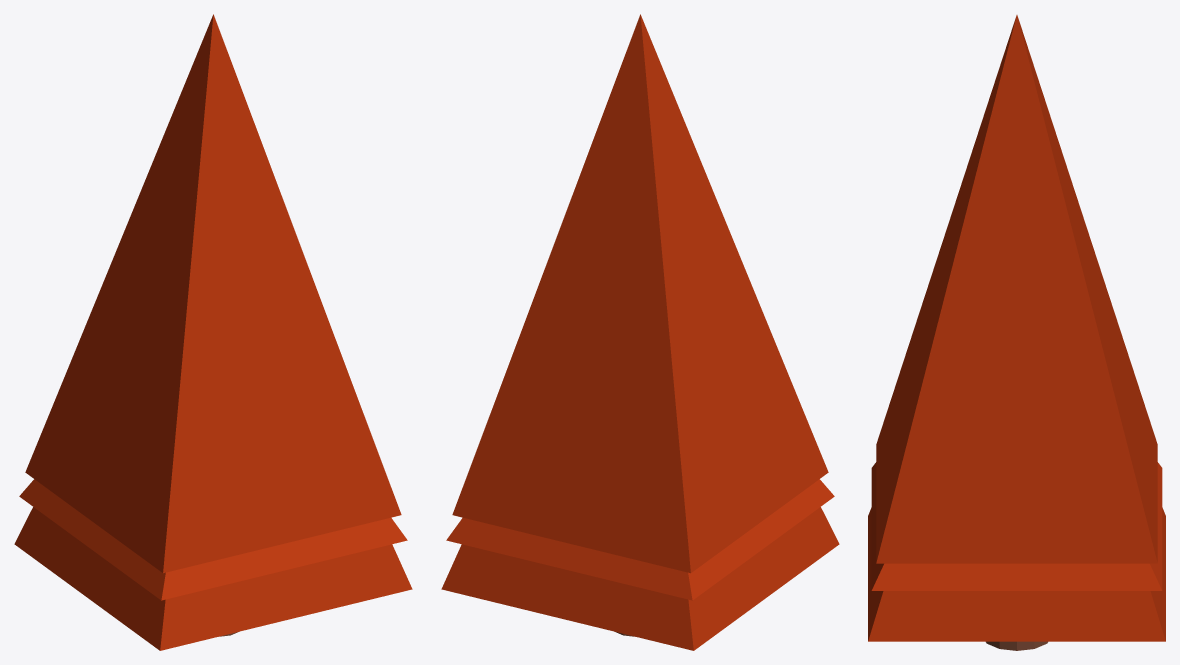
The model's file is Tree_34_summer_red_mat.fbx.
The picture shows the model from 3 angles, left to right: view 1: azimuth 30°, elevation 25°; view 2: azimuth 150°, elevation 25°; view 3: azimuth 270°, elevation 25°; orthographic projection. The views are drawn at different scales.
Parts seen in each view (by area): view 1: Tree_34_summer_red_mat; view 2: Tree_34_summer_red_mat; view 3: Tree_34_summer_red_mat.
Part boxes in pixels (x1,y1,x2,y2): Tree_34_summer_red_mat: [14, 14, 412, 650]; Tree_34_summer_red_mat: [441, 14, 839, 650]; Tree_34_summer_red_mat: [868, 15, 1165, 650].
Bounding box in the file's own units: 83.78 × 193 × 83.78.
